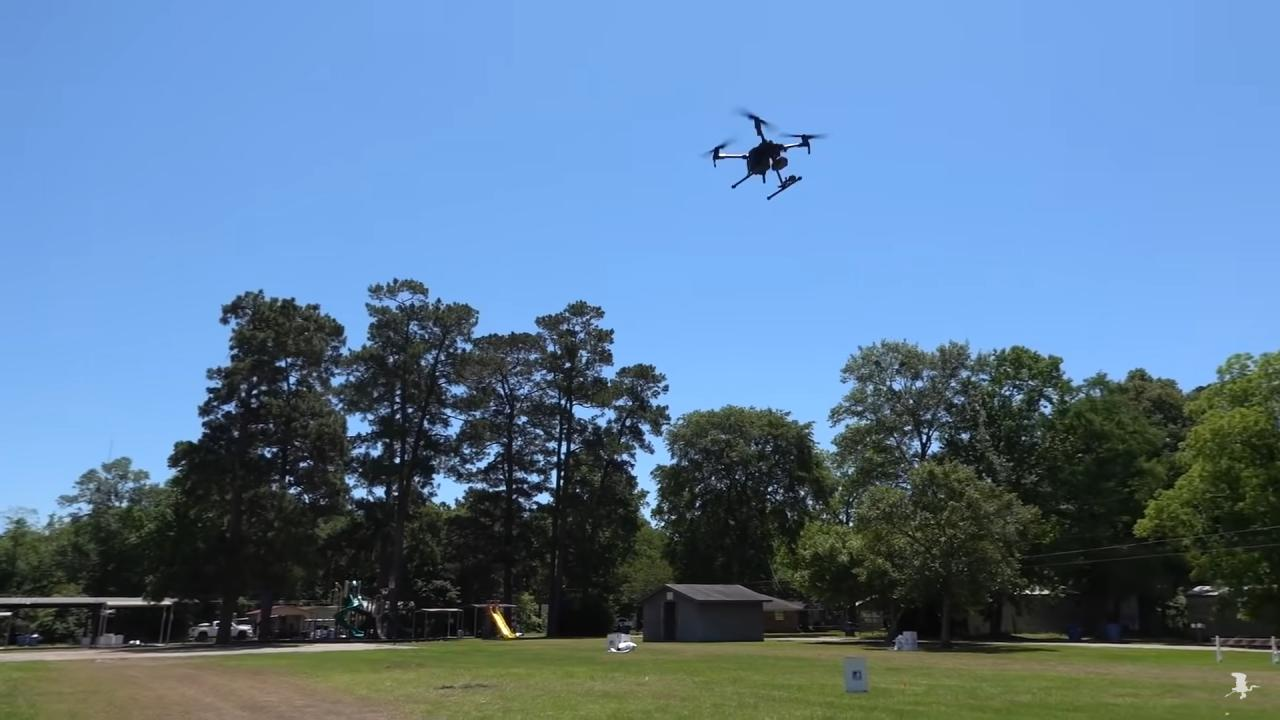Drone: (691, 97, 839, 212)
